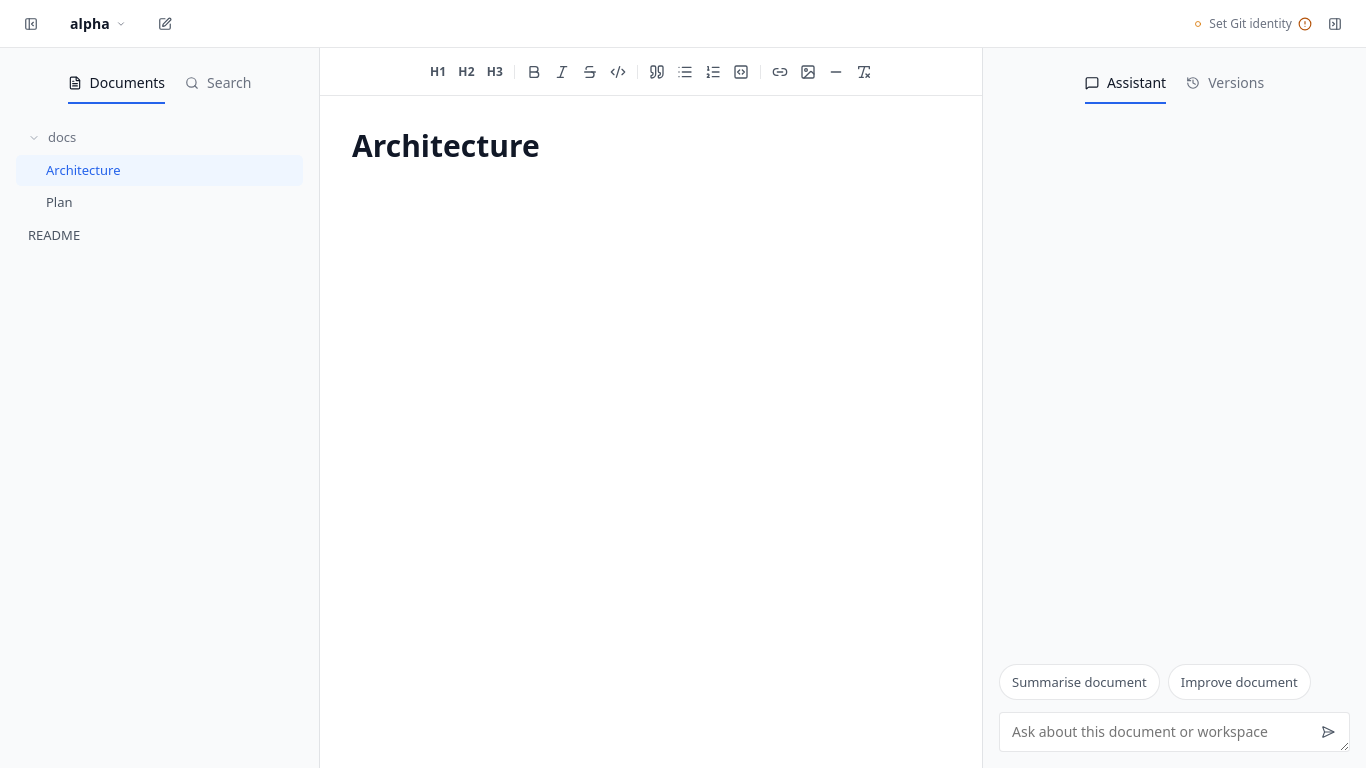
Test: App › opens identity popup when Set Git identity warning is clicked
Expected: the element with test id "workspace-sidebar" is shown, [0,48,320,767]
Click the button "Set Git identity" at [1253, 24], box [1193,16,1312,30]
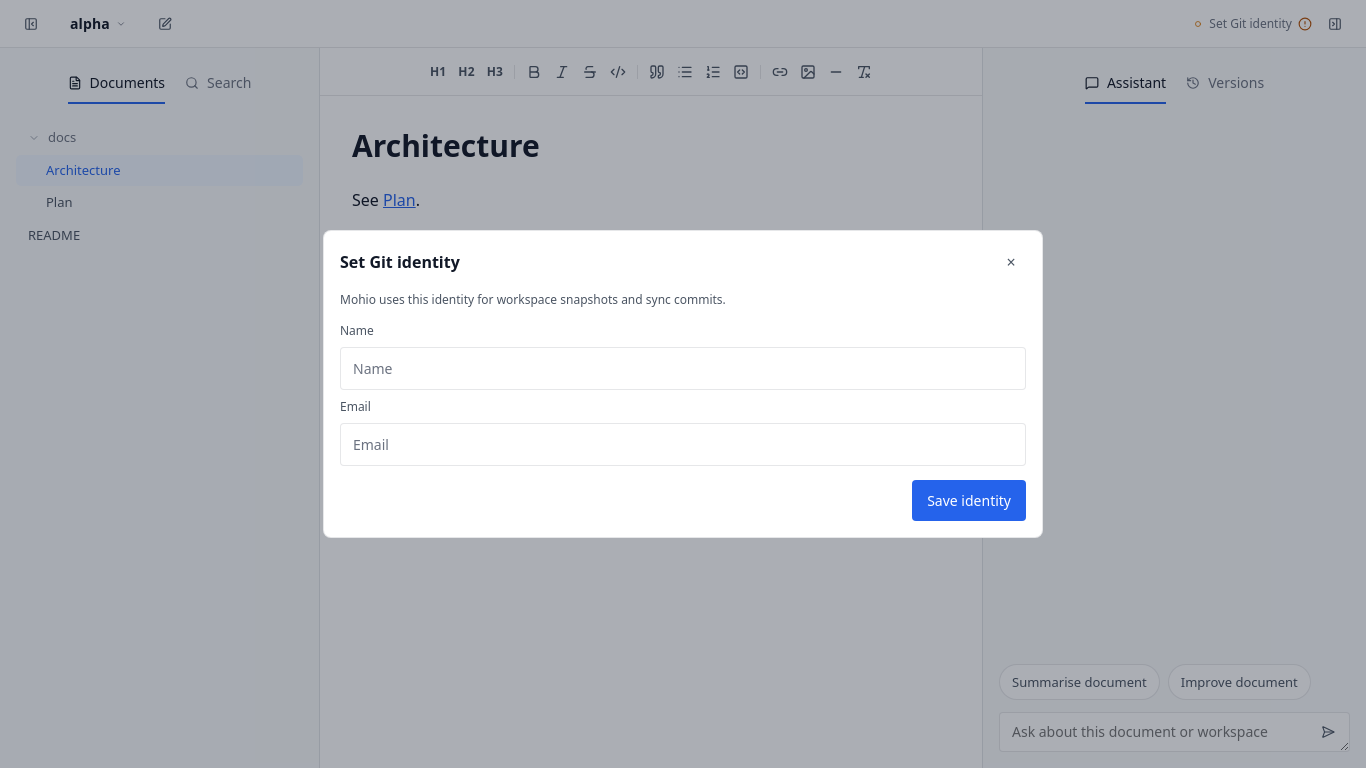
Now the dialog "Set Git identity" is shown, box [323,230,1043,538]
